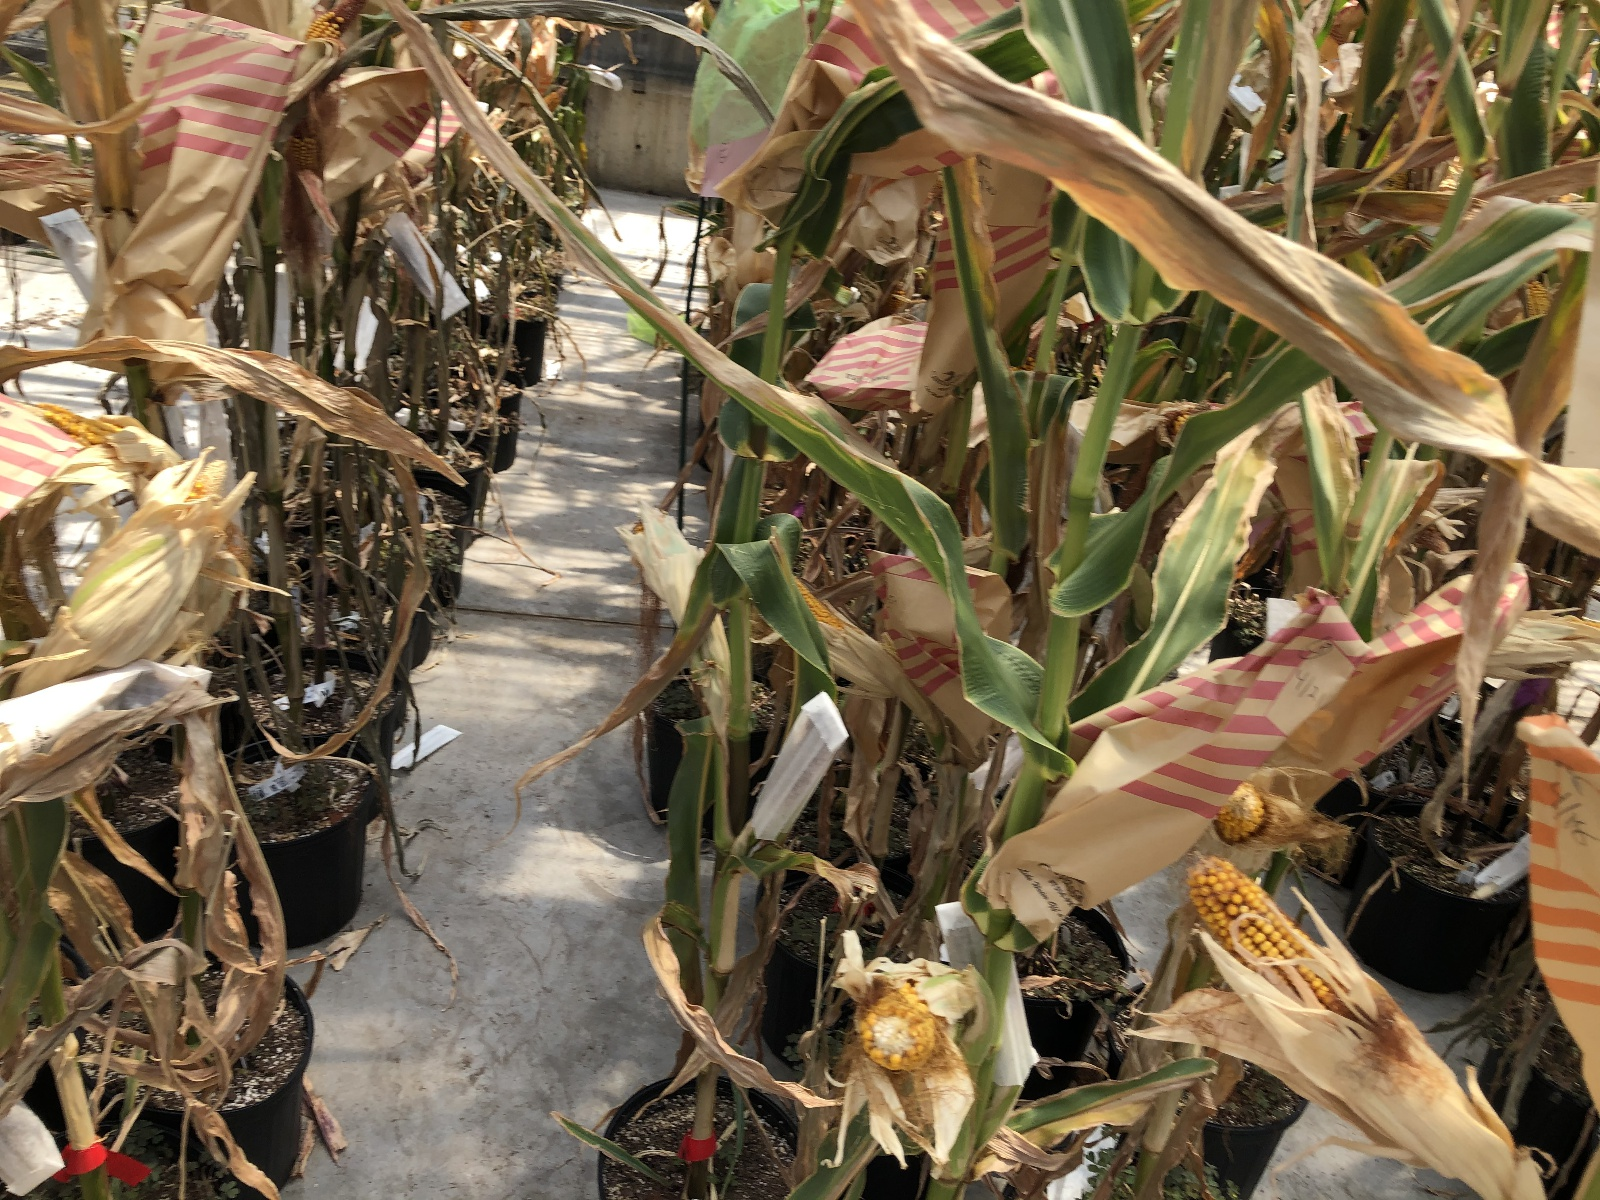ear: (1178, 850, 1453, 1141), (64, 455, 226, 662), (847, 957, 947, 1078), (784, 568, 867, 663), (35, 387, 139, 450), (1208, 779, 1279, 841), (282, 117, 324, 193), (304, 4, 370, 42)
